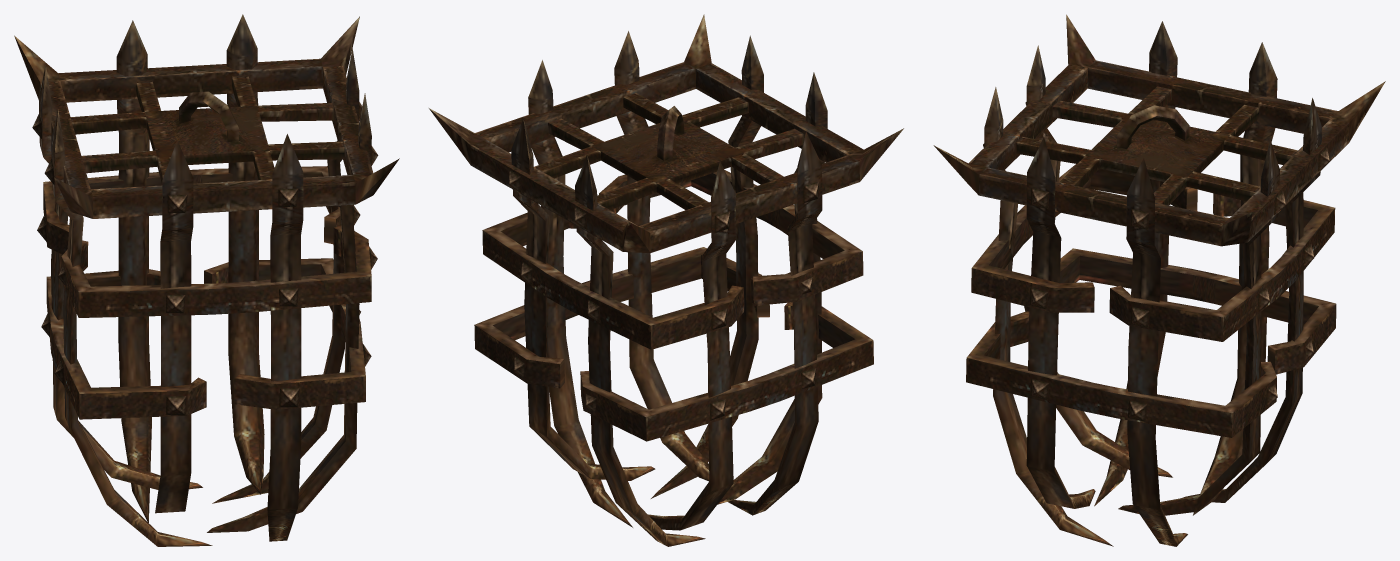
Rendered from blsd_tielian_01.FBX.
3 views of the same model, side by side, from view 1: azimuth 30°, elevation 25°; view 2: azimuth 150°, elevation 25°; view 3: azimuth 270°, elevation 25° (orthographic). The views are drawn at different scales.
Visible parts, largest first — view 1: blsd_tielian_01; view 2: blsd_tielian_01; view 3: blsd_tielian_01.
Boxes of the visible parts, bbox=[...] form: blsd_tielian_01: bbox=[14, 14, 399, 546]; blsd_tielian_01: bbox=[429, 14, 903, 546]; blsd_tielian_01: bbox=[933, 14, 1385, 546].
Size of the model in its own units: 41.16 by 44.15 by 41.21.
